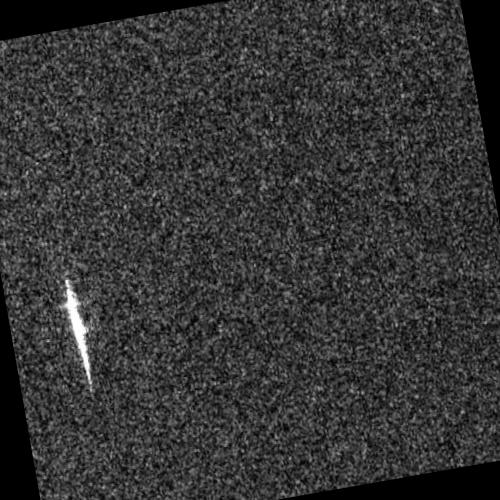ship: (64, 280, 91, 383)
